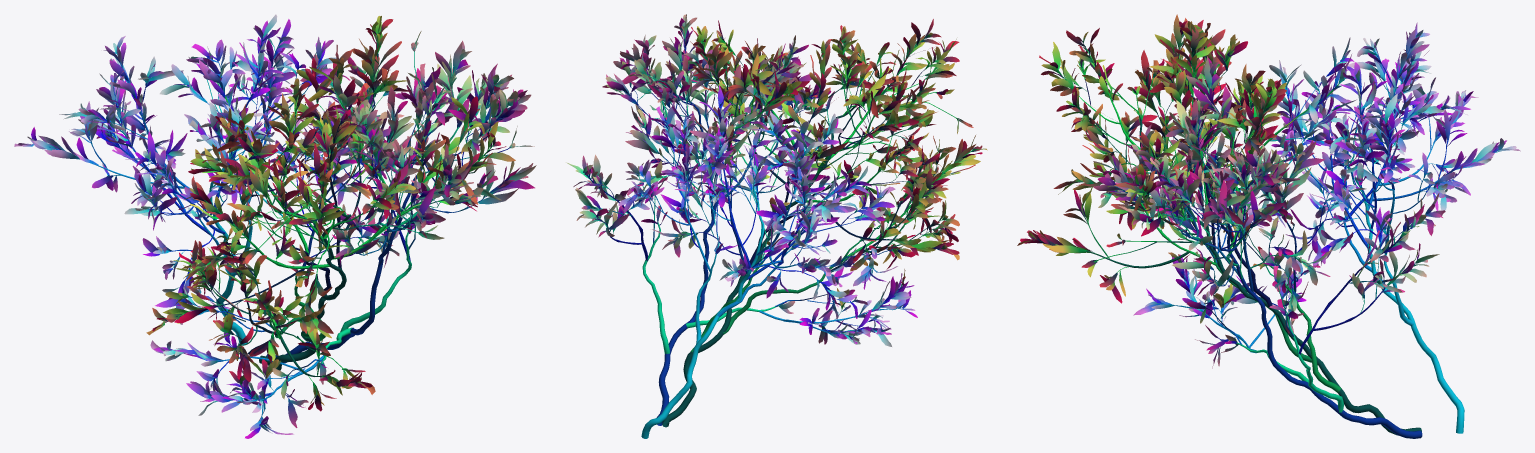
The model's file is Downy_Willow_wknlfiuqx_Mid_wknlfiuqx_VarG_LOD0.fbx.
The picture shows the model from 3 angles, left to right: view 1: azimuth 30°, elevation 25°; view 2: azimuth 150°, elevation 25°; view 3: azimuth 270°, elevation 25°; orthographic projection. The views are drawn at different scales.
Parts seen in each view (by area): view 1: _rmc0_VarG_LOD1; view 2: _rmc0_VarG_LOD1; view 3: _rmc0_VarG_LOD1.
Boxes of the visible parts, x1=… form: _rmc0_VarG_LOD1: x1=14, y1=14, x2=536, y2=438; _rmc0_VarG_LOD1: x1=566, y1=14, x2=987, y2=438; _rmc0_VarG_LOD1: x1=1017, y1=14, x2=1520, y2=438.
Bounding box in the file's own units: 163 × 157 × 192.
